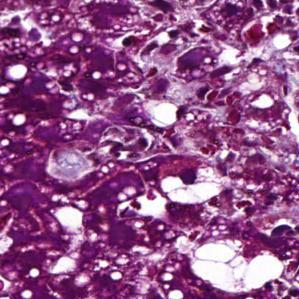ballooning: (187, 237, 288, 297), (158, 157, 228, 206)
